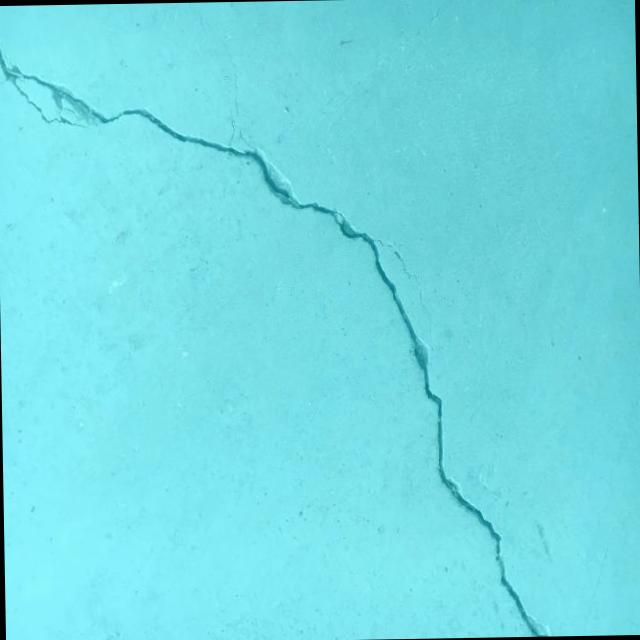crack: (0, 17, 548, 640), (386, 243, 432, 344)
